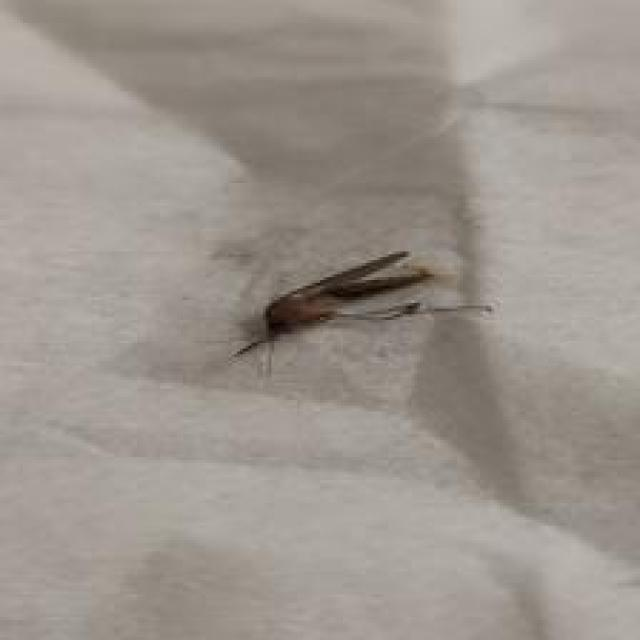Culex: (232, 247, 494, 376)
